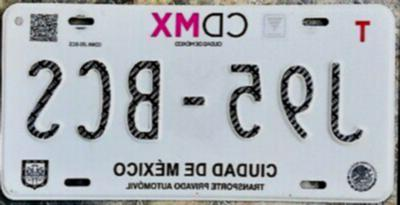License_Plate: (7, 11, 393, 196)
